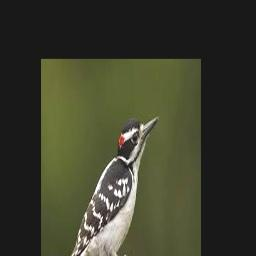Woodpecker: (64, 115, 159, 256)
